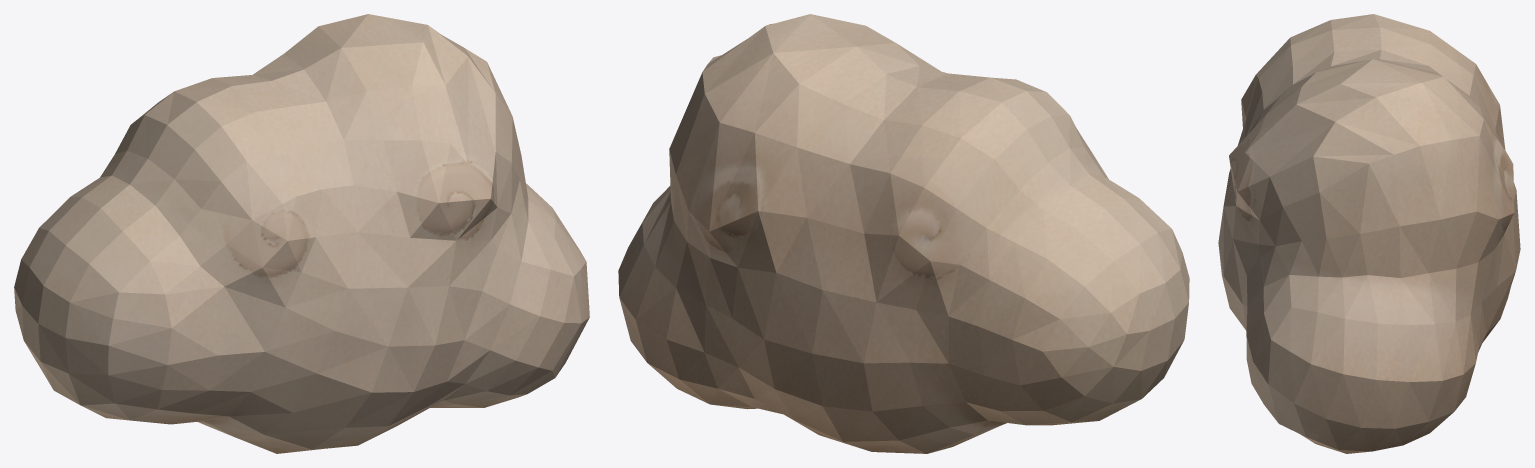
The model's file is Cloud_003.fbx.
3 views of the same model, side by side, from view 1: azimuth 30°, elevation 25°; view 2: azimuth 150°, elevation 25°; view 3: azimuth 270°, elevation 25° (orthographic). The views are drawn at different scales.
Parts seen in each view (by area): view 1: Cloud.003; view 2: Cloud.003; view 3: Cloud.003.
Boxes of the visible parts, x1=… form: Cloud.003: x1=14, y1=14, x2=589, y2=453; Cloud.003: x1=618, y1=14, x2=1189, y2=453; Cloud.003: x1=1218, y1=14, x2=1520, y2=453.
Size of the model in its own units: 98.49 by 67.63 by 54.43.
